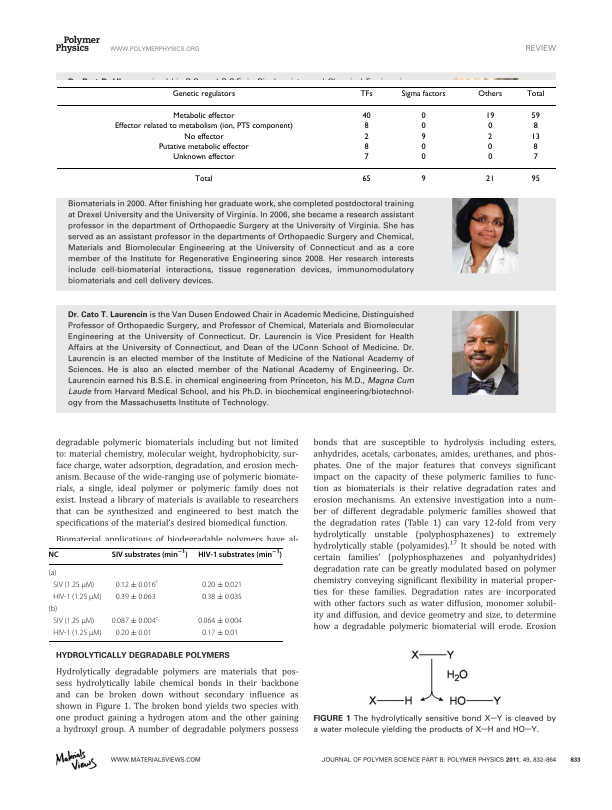borderless: (55, 85, 557, 192), (47, 546, 283, 641)
cell: (113, 122, 293, 132), (157, 142, 249, 152), (197, 549, 283, 559), (111, 549, 189, 559), (171, 89, 236, 99), (172, 112, 235, 121), (172, 153, 235, 162), (111, 615, 159, 626), (52, 592, 103, 602), (115, 579, 159, 590), (400, 89, 446, 99), (52, 629, 103, 638), (52, 580, 95, 590), (201, 580, 243, 590), (115, 592, 157, 602), (201, 592, 243, 602), (197, 617, 243, 626), (183, 132, 224, 142), (52, 617, 95, 626), (115, 629, 153, 638), (201, 629, 239, 638), (477, 89, 503, 99), (525, 89, 545, 99), (194, 175, 213, 185), (359, 89, 373, 99), (48, 550, 60, 559), (530, 132, 540, 142), (361, 175, 371, 185), (485, 175, 495, 185), (530, 175, 540, 185), (361, 112, 371, 121), (485, 112, 495, 121), (530, 112, 540, 121), (48, 568, 57, 578), (48, 605, 58, 614), (363, 122, 369, 132), (420, 122, 426, 132), (487, 122, 493, 132), (532, 122, 538, 132), (363, 132, 369, 142), (420, 132, 426, 142), (487, 132, 493, 142), (363, 142, 369, 152), (420, 142, 426, 152), (487, 142, 493, 152), (532, 142, 538, 152), (420, 175, 426, 185), (420, 112, 426, 121), (363, 153, 369, 162), (420, 153, 426, 162), (487, 153, 493, 162), (532, 153, 538, 162)
